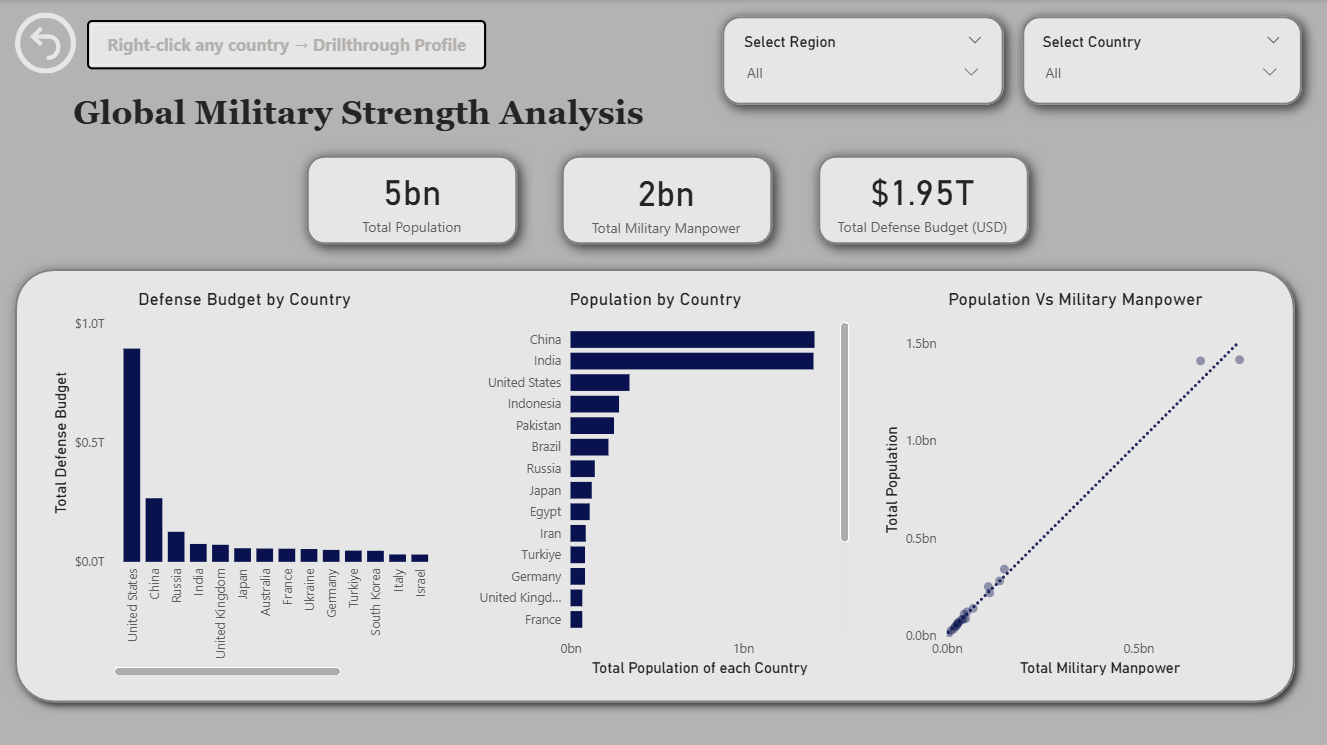

This screenshot's page, from the dashboard's own definition file:
{"tool":"powerbi","page":{"name":"Global Defense Overview","canvas":[1280,720],"ordinal":0},"visuals":[{"type":"group","id":"g1","title":"Background","box":[7.5,1.1,1259,682.7],"z":0},{"type":"shape","title":"slicer1_bg","box":[679.8,1.1,300,115],"z":500,"group":"g1"},{"type":"shape","title":"slicer2_bg","box":[968.2,1.1,298.3,115],"z":1000,"group":"g1"},{"type":"card","fields":{"Values":["Imp_Measures.Total Population"]},"box":[298.2,141.1,199.2,100.6],"z":1000},{"type":"card","fields":{"Values":["Imp_Measures.Total Military Manpower"]},"box":[540.4,141.7,200.6,100.3],"z":2000},{"type":"shape","title":"plots_bg","box":[7.5,248.1,1247.1,435.7],"z":2000,"group":"g1"},{"type":"shape","title":"kpi1_bg","box":[281.8,135,232,115],"z":3000,"group":"g1"},{"type":"card","fields":{"Values":["Imp_Measures.Total Defense Budget"]},"box":[784.9,141.1,203.3,100.6],"z":3000},{"type":"shape","title":"kpi2_bg","box":[526.2,135,232,115],"z":4000,"group":"g1"},{"type":"barChart","title":"Population by Country","fields":{"Category":["global_military_expenditure.country"],"Y":["Imp_Measures.Total Population"]},"box":[441.4,277.1,380,375.7],"z":4000},{"type":"shape","title":"kpi3_bg","box":[772.6,135,232,115],"z":5000,"group":"g1"},{"type":"columnChart","title":"Defense Budget by Country","fields":{"Category":["global_military_expenditure.country"],"Y":["Imp_Measures.Total Defense Budget"]},"box":[47.1,277.1,380,375.7],"z":5000},{"type":"scatterChart","title":"Population Vs Military Manpower","fields":{"X":["Imp_Measures.Total Military Manpower"],"Y":["Imp_Measures.Total Population"],"Category":["global_military_expenditure.country"]},"box":[844.3,277.1,380,375.7],"z":6000},{"type":"textbox","box":[17.1,84.3,658.6,67.1],"z":7000},{"type":"actionButton","box":[17.1,12.9,58.6,58.6],"z":8000},{"type":"slicer","fields":{"Values":["global_military_expenditure.country"]},"box":[989.9,26.8,253.1,66.9],"z":9000},{"type":"slicer","fields":{"Values":["global_military_expenditure.region"]},"box":[703.4,26.8,253.1,66.9],"z":10000},{"type":"actionButton","box":[85.7,20,382.9,47.1],"z":11000}]}

Visuals, with their boxes in screenshot pixels (x1, y1, x2, y2), scaled from the page's 1280x720 canvas onto the 1327x745 screenshot:
"Background" group: detection(8, 1, 1313, 708)
"slicer1_bg" shape: detection(705, 1, 1016, 120)
"slicer2_bg" shape: detection(1004, 1, 1313, 120)
card - Imp_Measures.Total Population: detection(309, 146, 516, 250)
card - Imp_Measures.Total Military Manpower: detection(560, 147, 768, 250)
"plots_bg" shape: detection(8, 257, 1301, 708)
"kpi1_bg" shape: detection(292, 140, 533, 259)
card - Imp_Measures.Total Defense Budget: detection(814, 146, 1024, 250)
"kpi2_bg" shape: detection(546, 140, 786, 259)
"Population by Country" barChart: detection(458, 287, 852, 675)
"kpi3_bg" shape: detection(801, 140, 1041, 259)
"Defense Budget by Country" columnChart: detection(49, 287, 443, 675)
"Population Vs Military Manpower" scatterChart: detection(875, 287, 1269, 675)
textbox: detection(18, 87, 701, 157)
actionButton: detection(18, 13, 78, 74)
slicer - global_military_expenditure.country: detection(1026, 28, 1289, 97)
slicer - global_military_expenditure.region: detection(729, 28, 992, 97)
actionButton: detection(89, 21, 486, 69)
